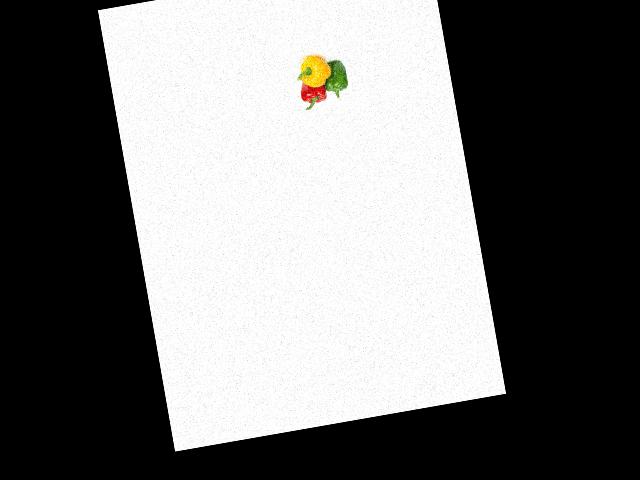bell_pepper: (293, 74, 333, 114)
